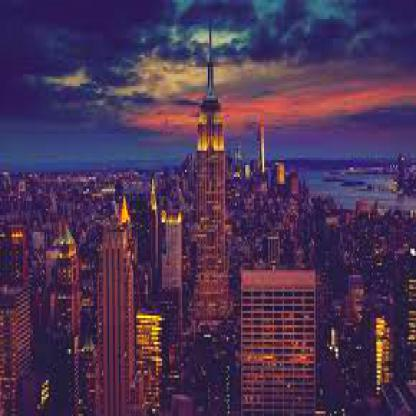Empire-State-building: (193, 2, 228, 319)
